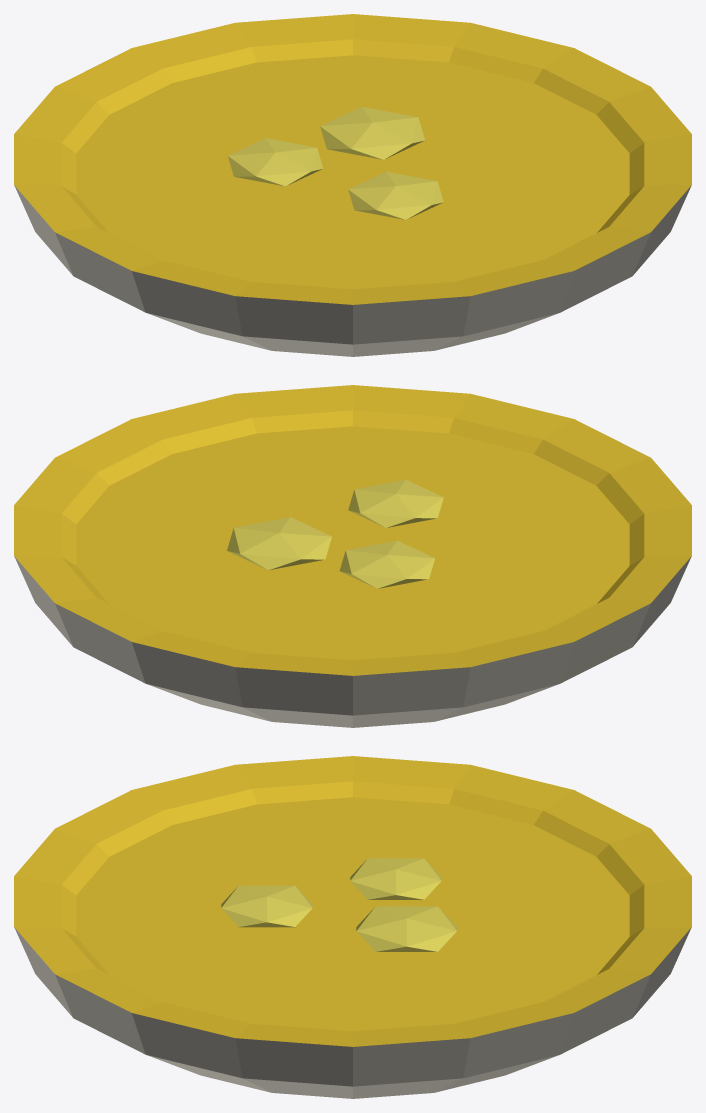
The model's file is Citrus_Glaze.glb.
3 views of the same model, one above another, from view 1: azimuth 30°, elevation 25°; view 2: azimuth 150°, elevation 25°; view 3: azimuth 270°, elevation 25° (orthographic).
Visible parts, largest first — view 1: _I_CitrusGlaze; view 2: _I_CitrusGlaze; view 3: _I_CitrusGlaze.
Boxes of the visible parts, bbox=[...] form: _I_CitrusGlaze: bbox=[14, 14, 691, 356]; _I_CitrusGlaze: bbox=[14, 385, 691, 727]; _I_CitrusGlaze: bbox=[14, 756, 691, 1098].
Size of the model in its own units: 0.64 by 0.126 by 0.6303.
